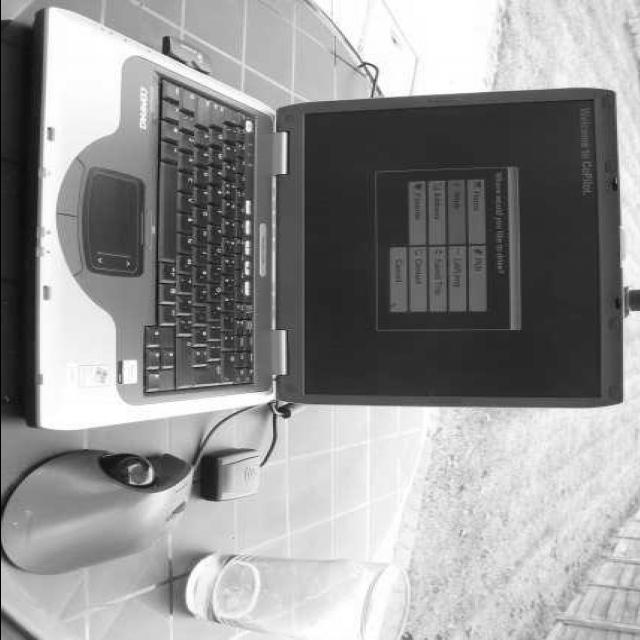laptop: (42, 1, 570, 468)
